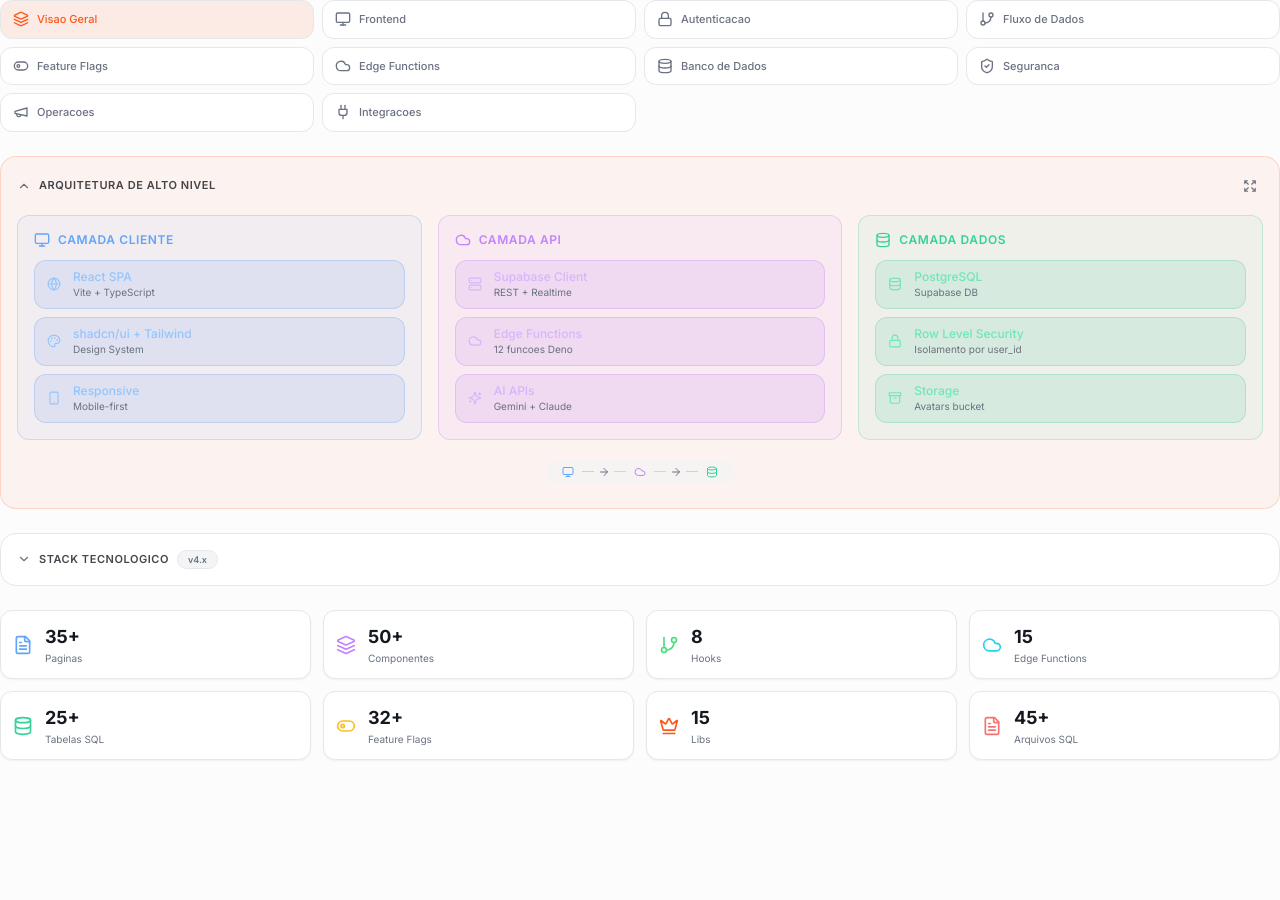
Scenario: AdminArchitectureTab › switches to Frontend section
What coordinates should you click on to do the following:
click the button "Frontend"
I would click on:
 (383, 19)
Its box is [322,0,636,38].
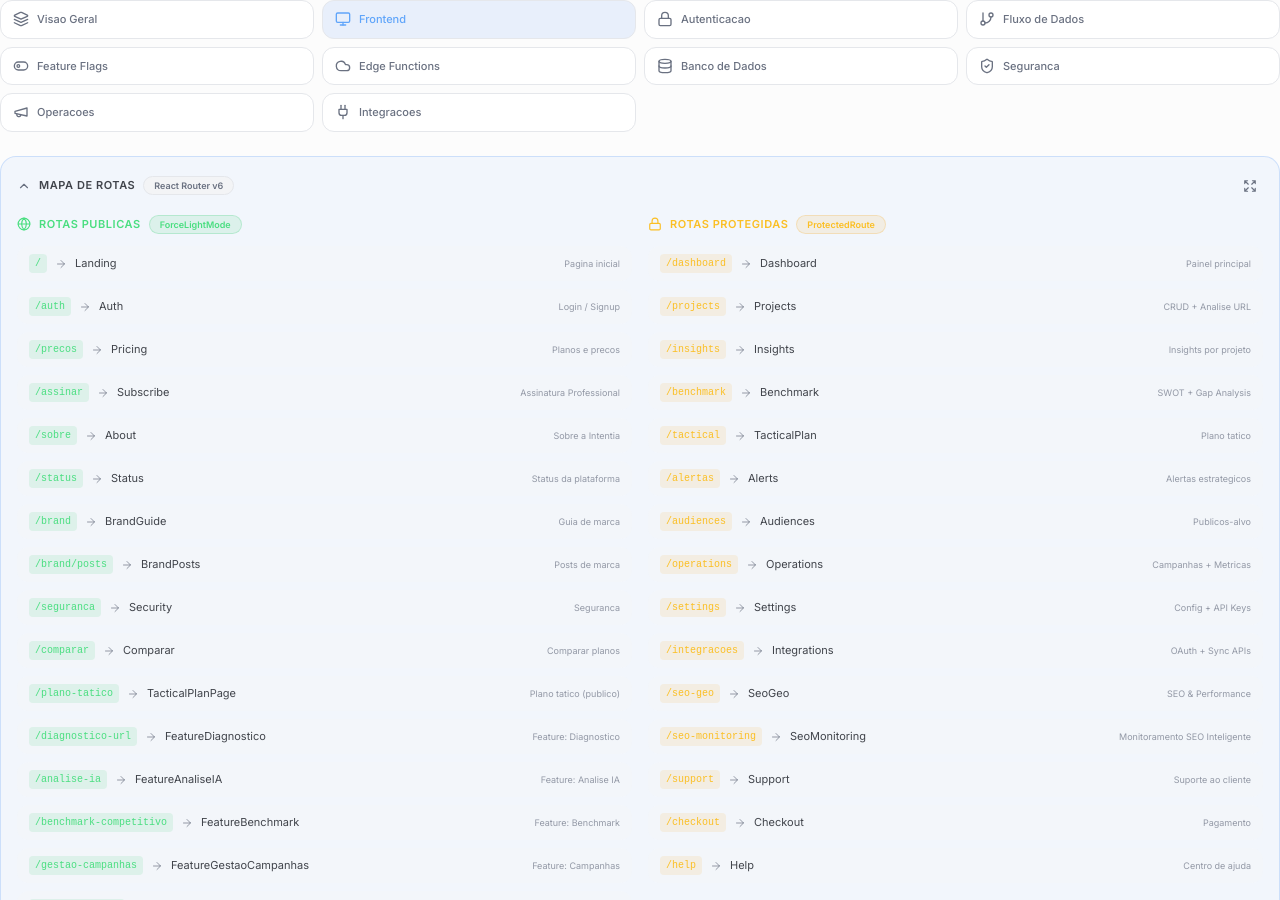
expect the text "Mapa de Rotas" is shown: met, box [39,177,135,194]
expect the text "Rotas Publicas" is shown: met, box [39,216,141,232]
